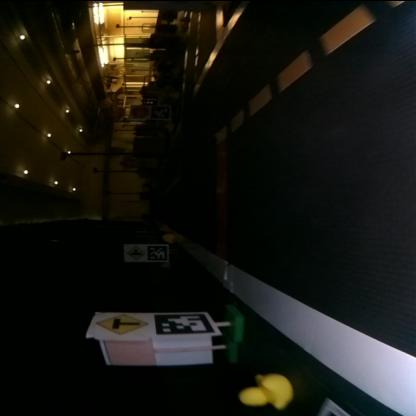Duckie: (239, 372, 293, 405), (162, 232, 171, 240)
Intersection sign: (95, 312, 146, 334), (124, 244, 138, 260)
QR code: (152, 312, 212, 334), (148, 243, 166, 259), (150, 104, 167, 118)
Stop sign: (130, 104, 148, 116)
